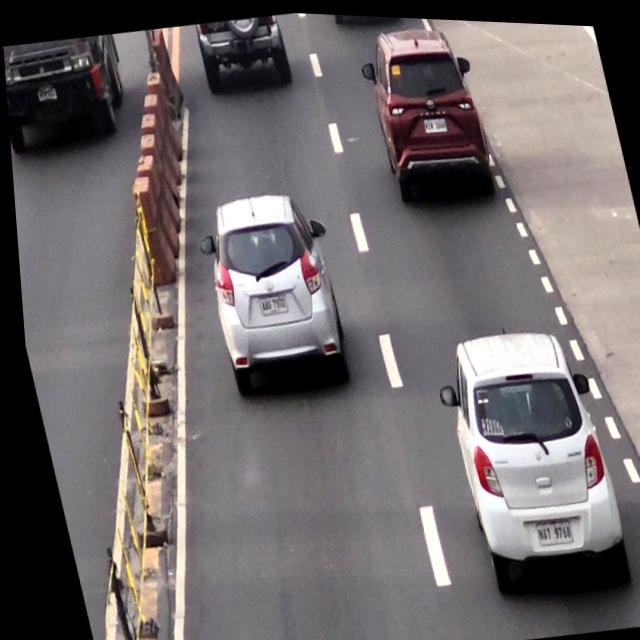Car: (428, 316, 622, 581), (192, 183, 347, 392), (360, 21, 497, 206), (193, 10, 293, 93)
License-Plate: (526, 514, 568, 544), (251, 288, 287, 317), (422, 110, 446, 129)
